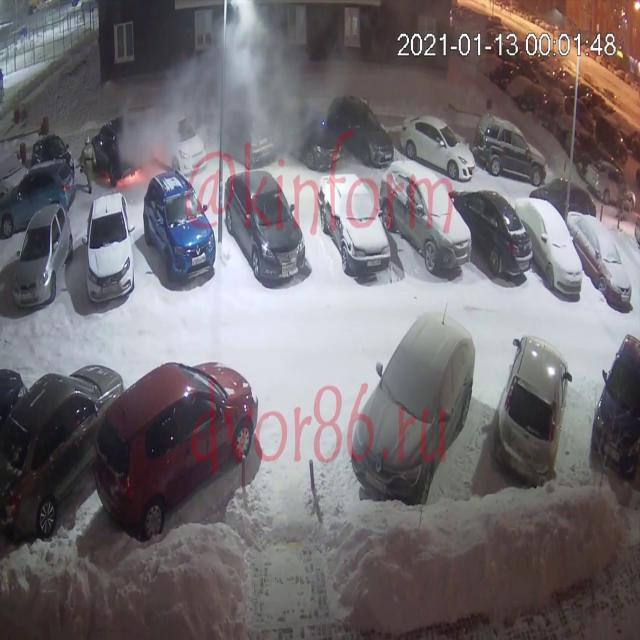Smoke: (98, 2, 342, 165)
